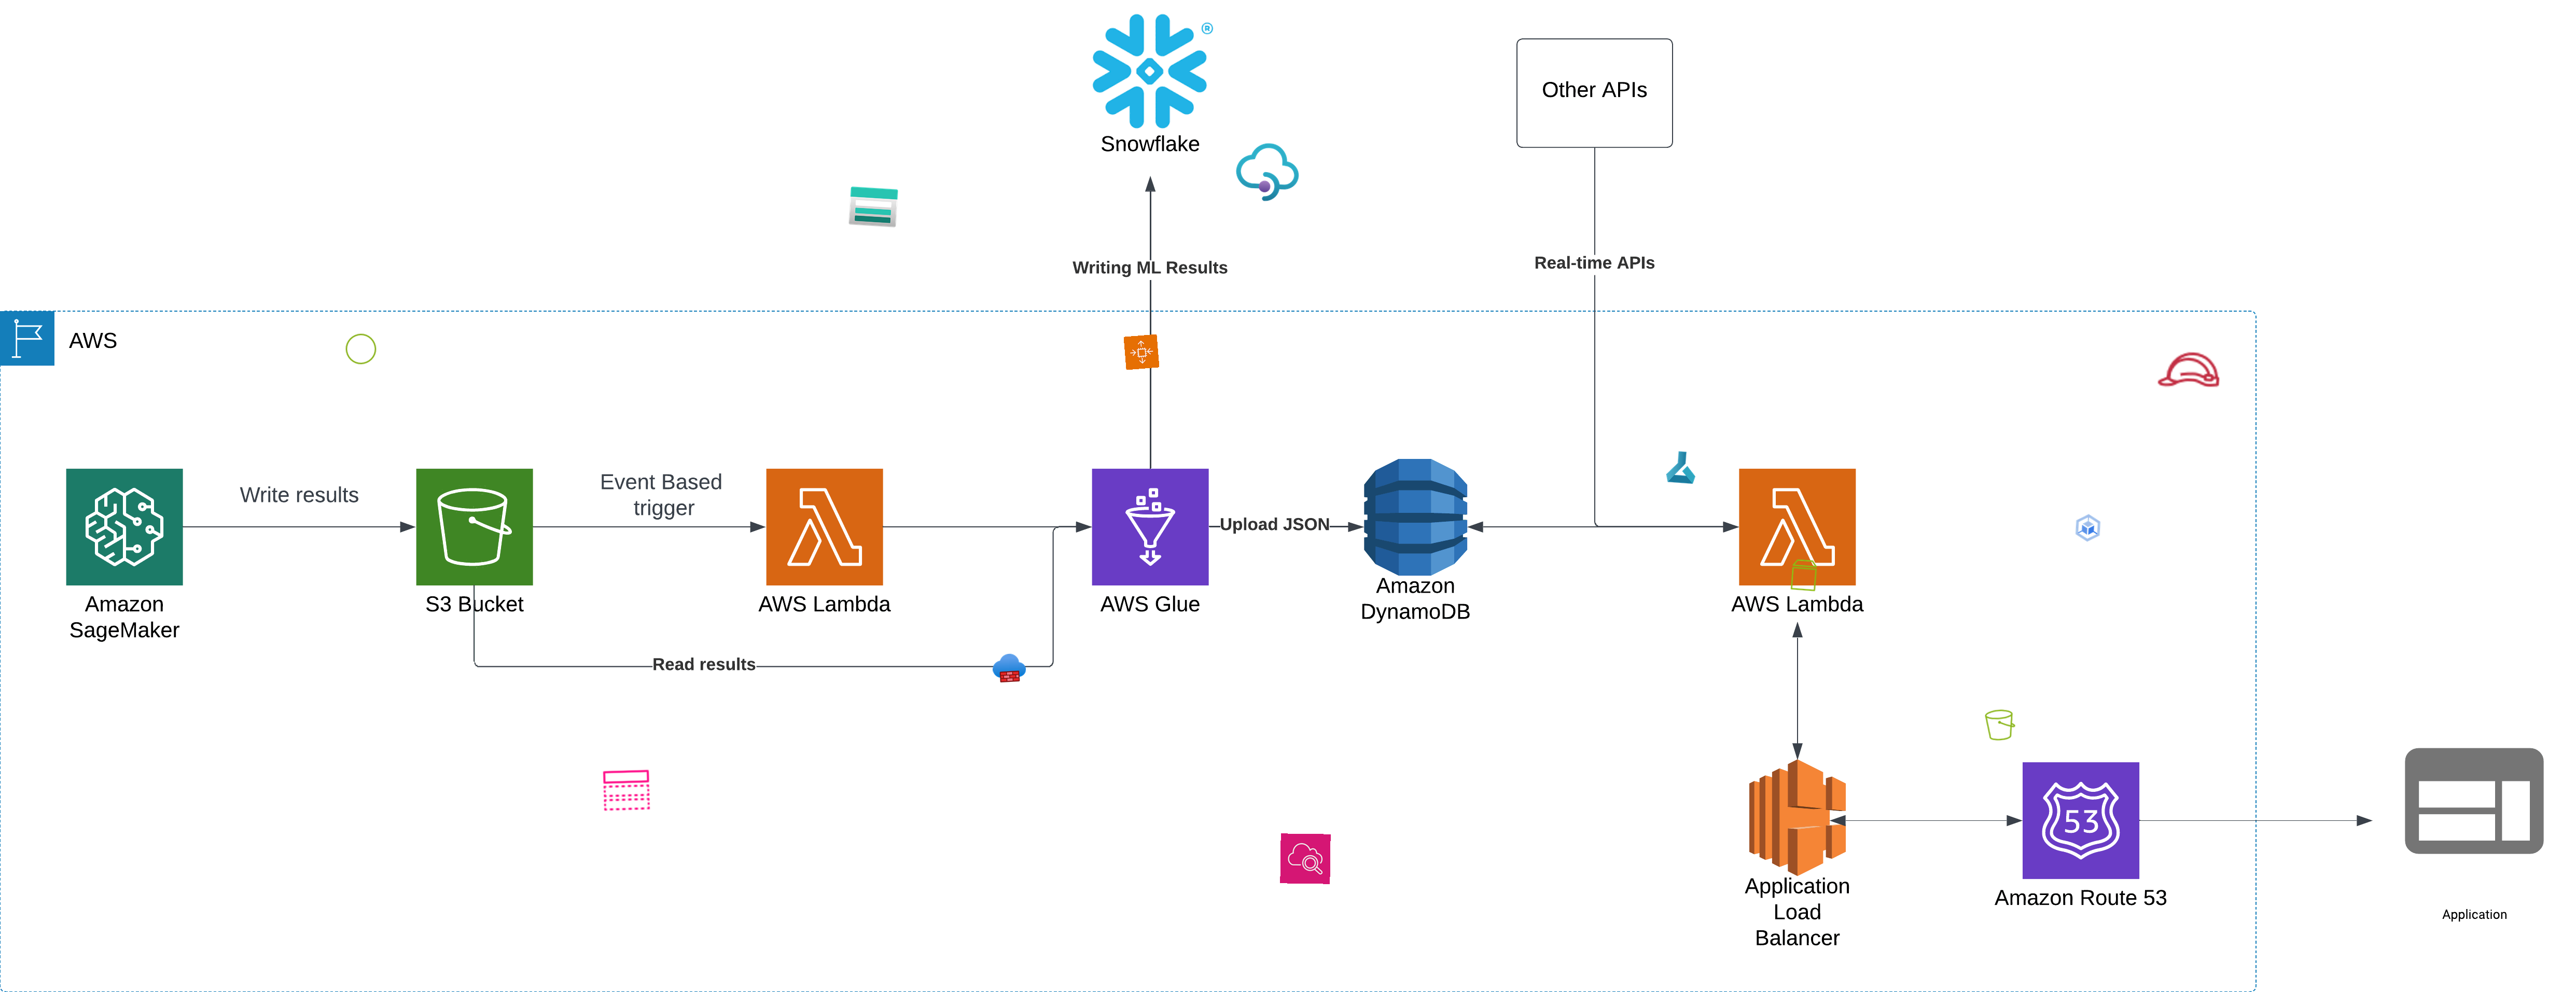aws_amazon_cloudwatch: (1280, 833, 1331, 884)
aws_amazon_ec2_auto_scaling: (1124, 333, 1160, 370)
aws_elastic_block_store_volume: (1786, 557, 1822, 593)
aws_identity_access_management_role: (2154, 335, 2224, 406)
aws_simple_notification_service_topic: (601, 764, 652, 816)
aws_simple_storage_service_object: (343, 332, 378, 366)
aws_simple_storage_service_s3_standard: (1983, 706, 2019, 742)
azure_api_management_services: (1232, 138, 1303, 207)
azure_firewalls: (992, 650, 1027, 685)
azure_machine_learning: (1663, 448, 1699, 486)
azure_storage_accounts: (848, 181, 900, 233)
gcp_google_kubernetes_engine: (2070, 511, 2106, 545)
